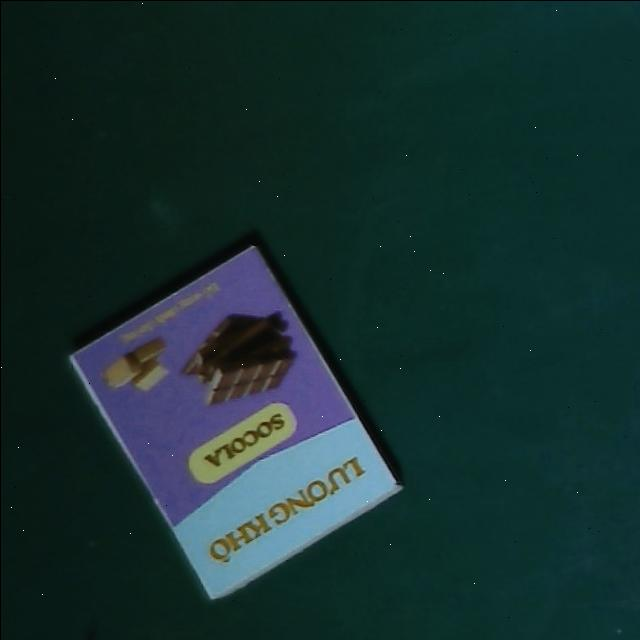socola: (64, 241, 404, 603)
